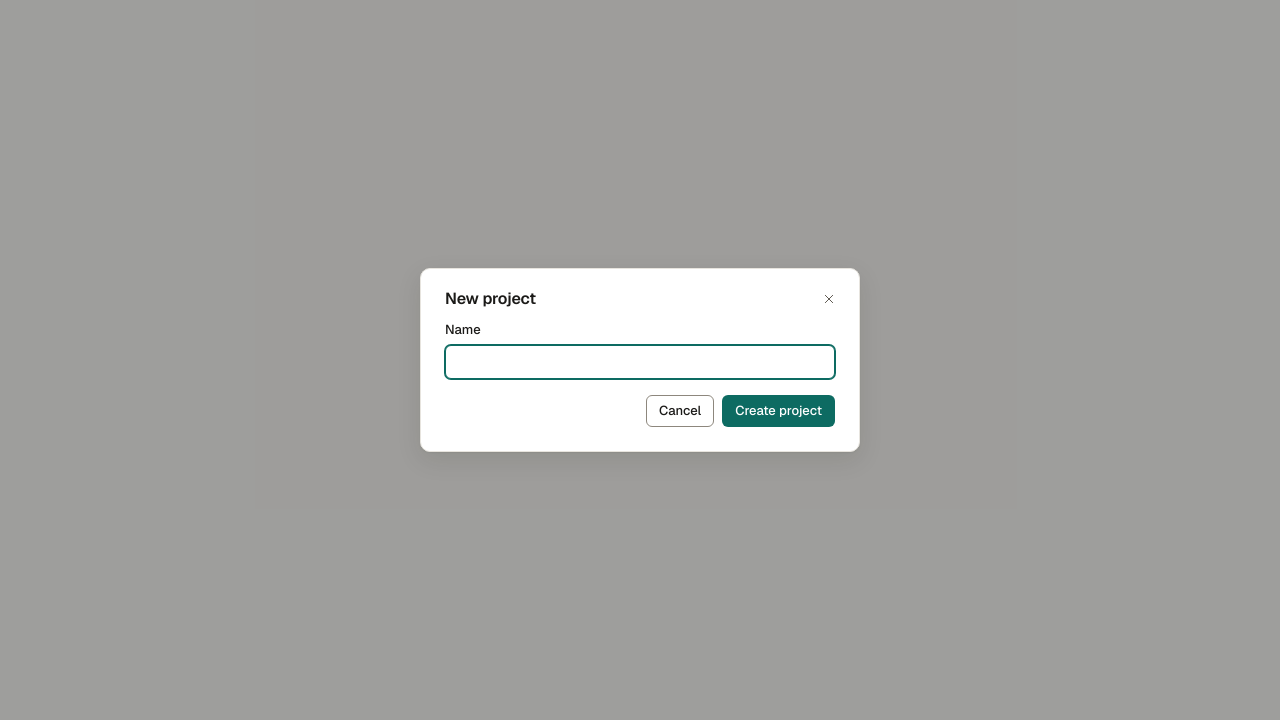
Test: TextFieldDialog › shows a store error under the field and stays open
Click the button "Create project": {"x": 779, "y": 411} [722, 395, 835, 427]
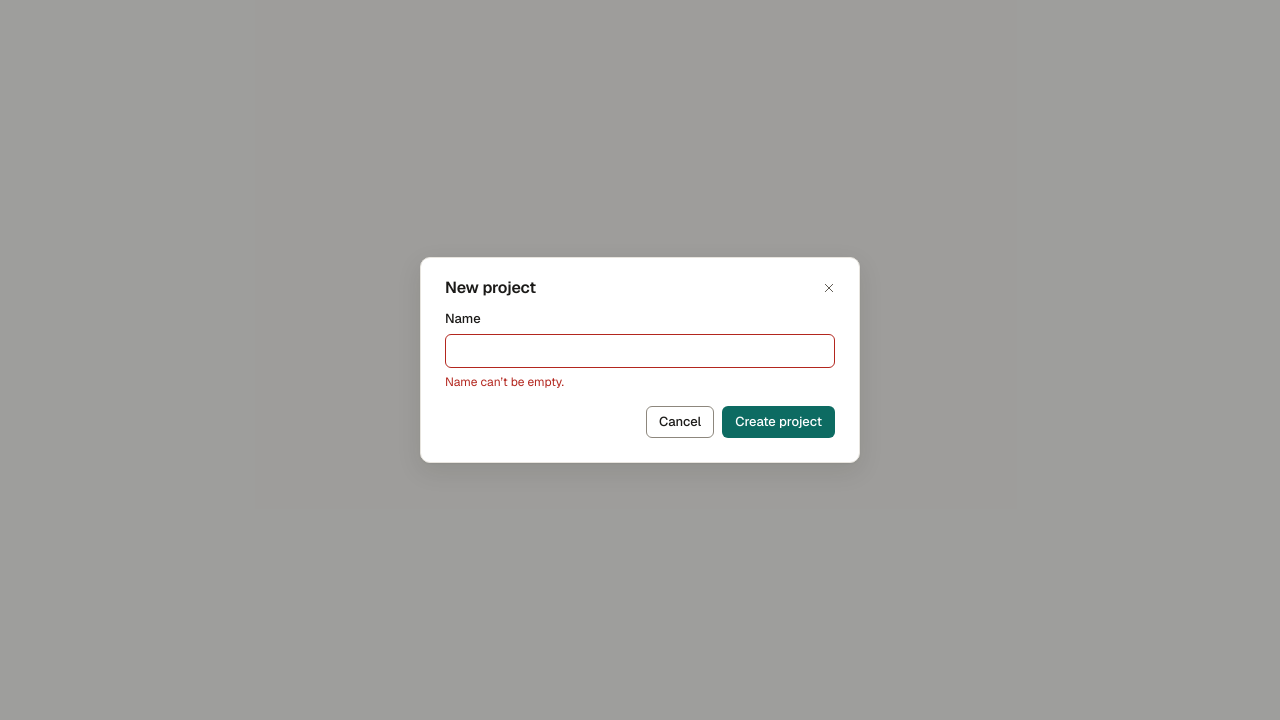
Expected: the message reads "Name can’t be empty.", [445, 374, 564, 390]
